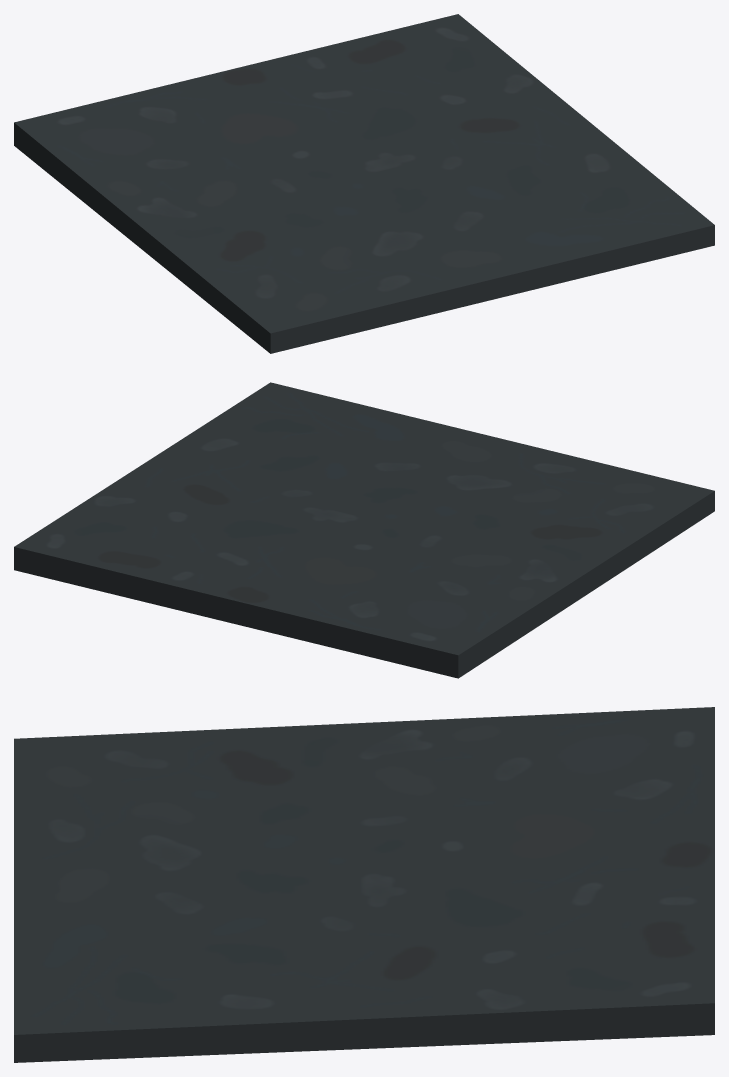
The model's file is Sidewalk.fbx.
3 views of the same model, one above another, from view 1: azimuth 30°, elevation 25°; view 2: azimuth 150°, elevation 25°; view 3: azimuth 270°, elevation 25° (orthographic). The views are drawn at different scales.
Parts seen in each view (by area): view 1: Sidewalk; view 2: Sidewalk; view 3: Sidewalk.
Boxes of the visible parts, bbox=[...] form: Sidewalk: bbox=[14, 14, 714, 353]; Sidewalk: bbox=[14, 382, 714, 678]; Sidewalk: bbox=[14, 707, 714, 1062].
Bounding box in the file's own units: 400 × 37.6 × 400.
1 material, 1 textured.
